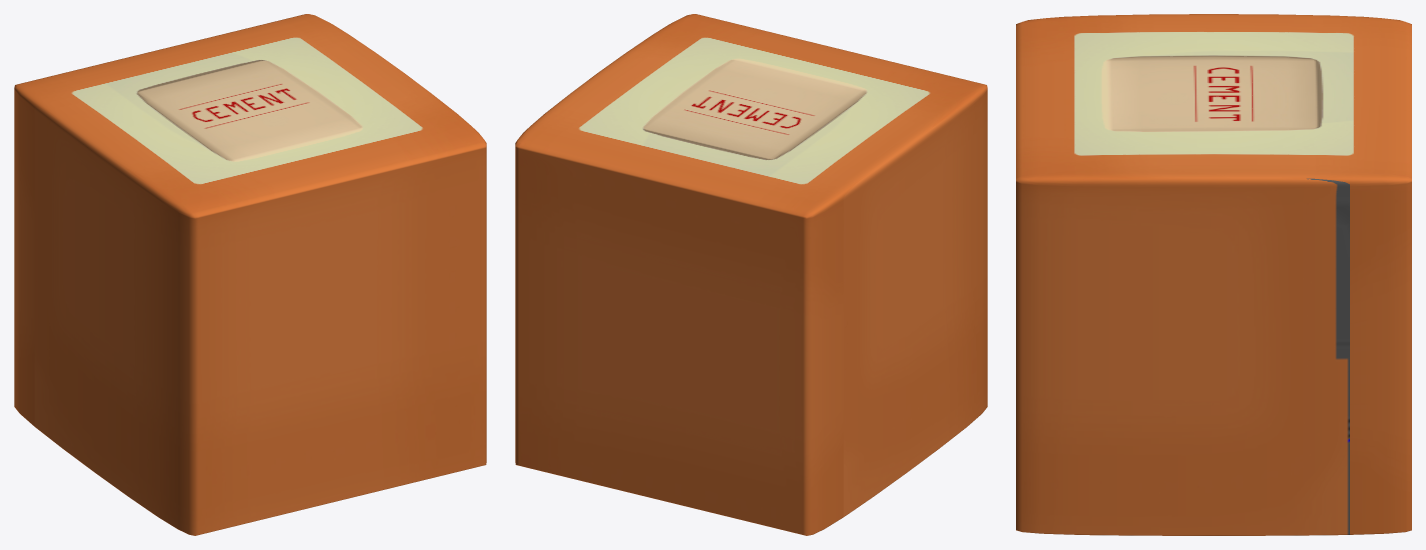
The model's file is cement_box.fbx.
3 views of the same model, side by side, from view 1: azimuth 30°, elevation 25°; view 2: azimuth 150°, elevation 25°; view 3: azimuth 270°, elevation 25° (orthographic). The views are drawn at different scales.
Parts seen in each view (by area): view 1: pCube1; view 2: pCube1; view 3: pCube1.
Boxes of the visible parts, x1,y1,x2,y2 form: pCube1: [14, 14, 486, 535]; pCube1: [515, 14, 987, 535]; pCube1: [1016, 14, 1411, 535].
Bounding box in the file's own units: 0.9972 × 0.999 × 1.
